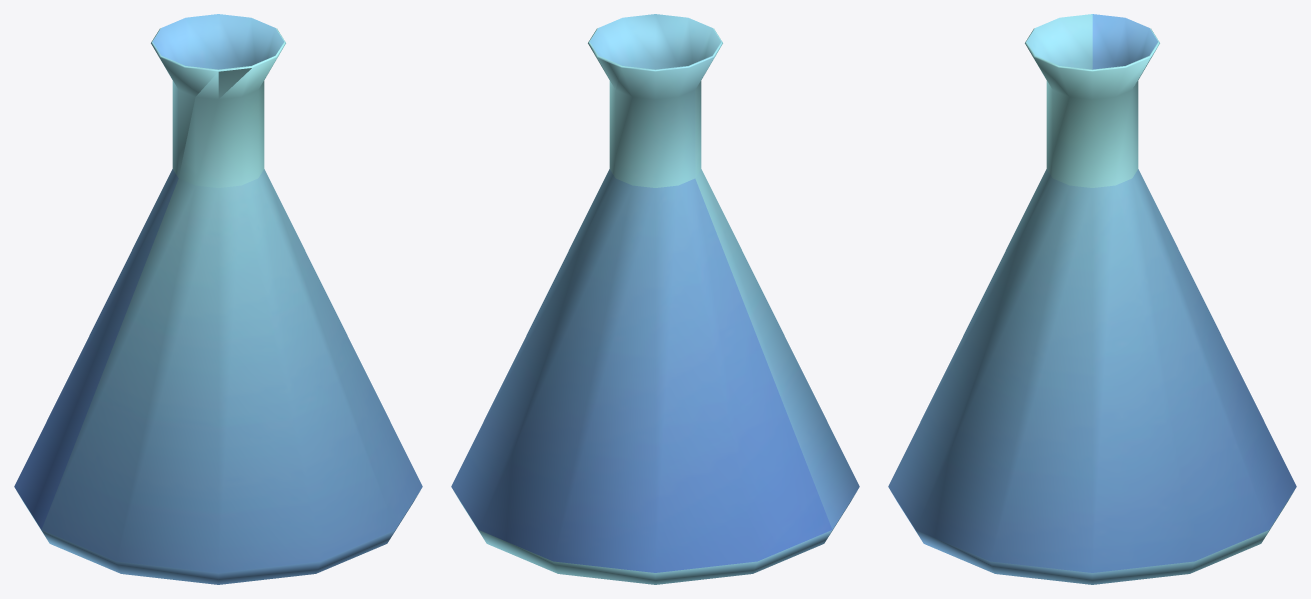
3 renders of one model, left to right at view 1: azimuth 30°, elevation 25°; view 2: azimuth 150°, elevation 25°; view 3: azimuth 270°, elevation 25°, orthographic.
Parts seen in each view (by area): view 1: testtube2; view 2: testtube2; view 3: testtube2.
Part boxes in pixels (bbox=[...]): testtube2: bbox=[14, 14, 422, 584]; testtube2: bbox=[451, 14, 859, 584]; testtube2: bbox=[888, 14, 1296, 584].
Size of the model in its own units: 17.63 by 22.38 by 17.63.
